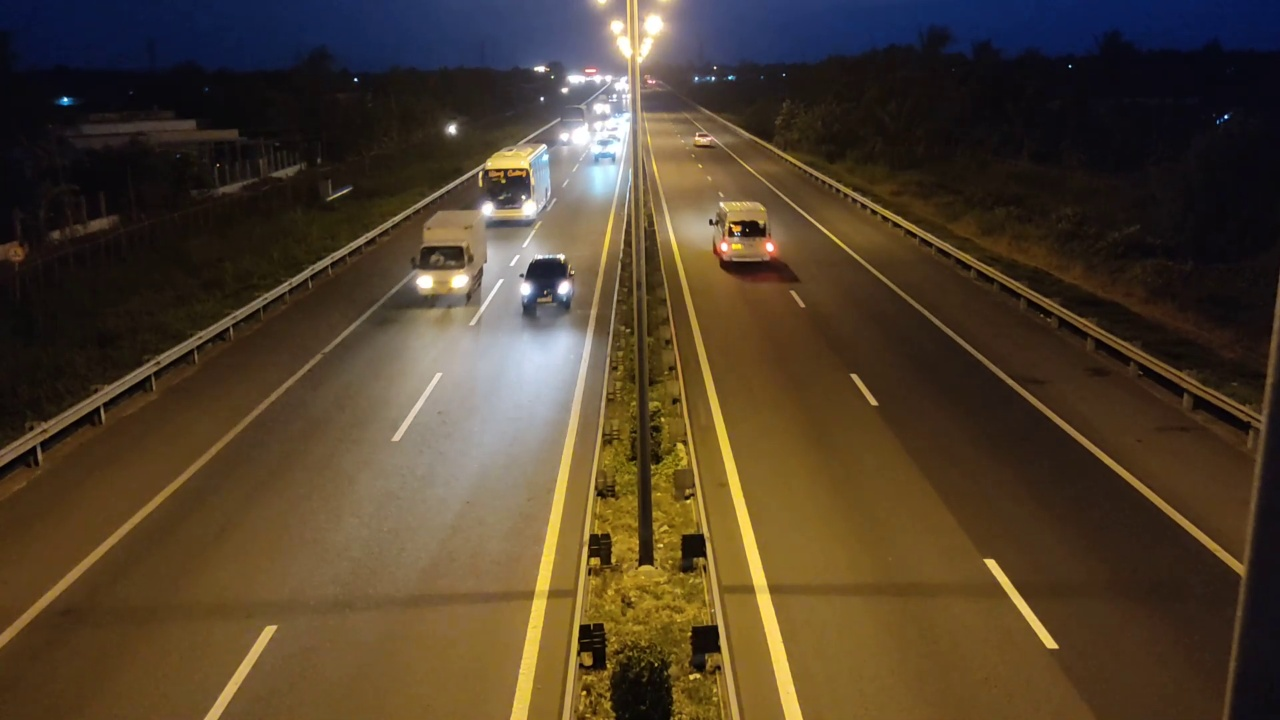bus: (479, 143, 551, 225)
car: (709, 200, 777, 265), (519, 253, 576, 316), (693, 131, 717, 149)
truck: (406, 205, 490, 310)
